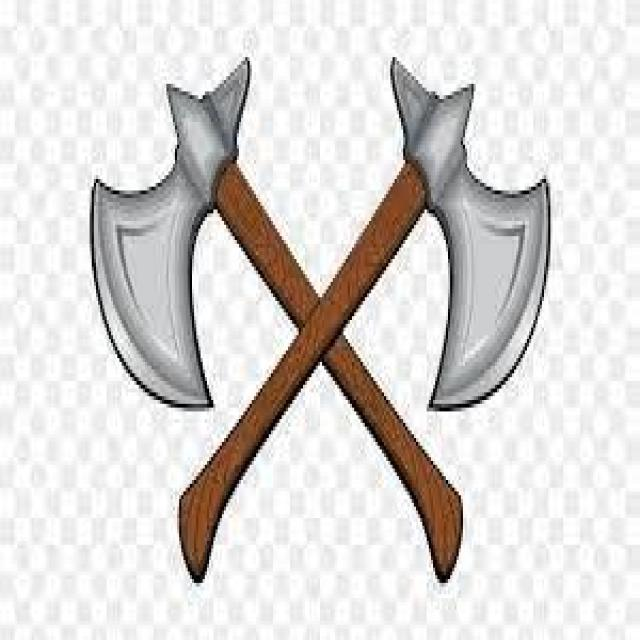Gun: (59, 40, 466, 598), (164, 50, 558, 585)
